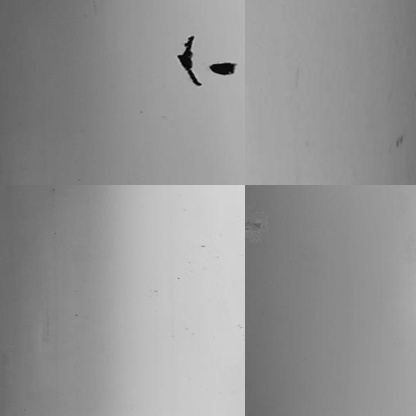kongdong: (172, 30, 200, 84), (206, 59, 234, 79)
